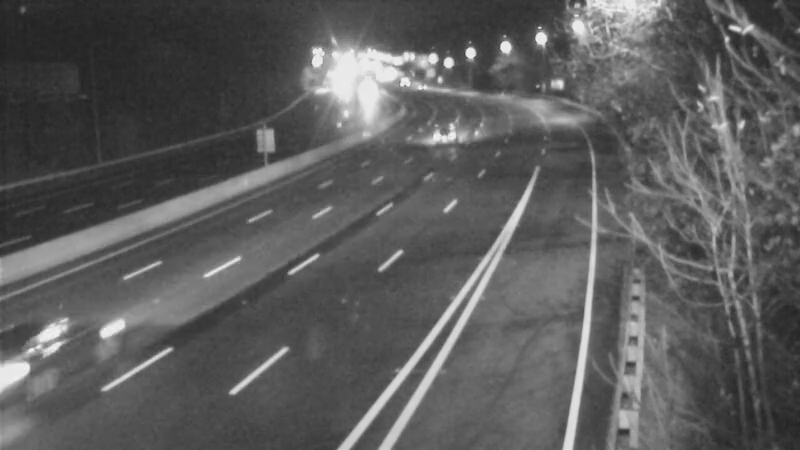vehicle: (1, 297, 109, 407), (391, 60, 441, 110), (427, 109, 477, 159)
